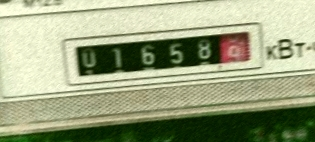0: (78, 48, 98, 70)
1: (108, 46, 125, 71)
5: (166, 42, 185, 67)
6: (137, 43, 158, 69)
8: (194, 39, 213, 62)
9: (224, 44, 242, 66)
screen: (58, 16, 269, 95)
